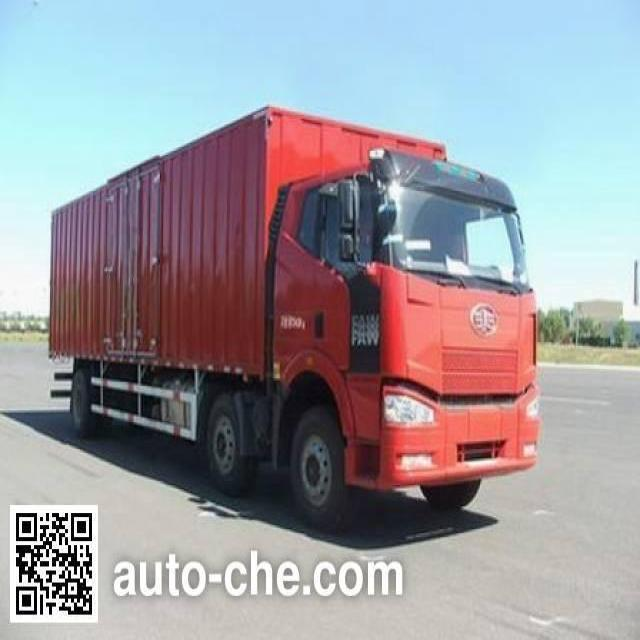covered: (29, 98, 564, 496)
